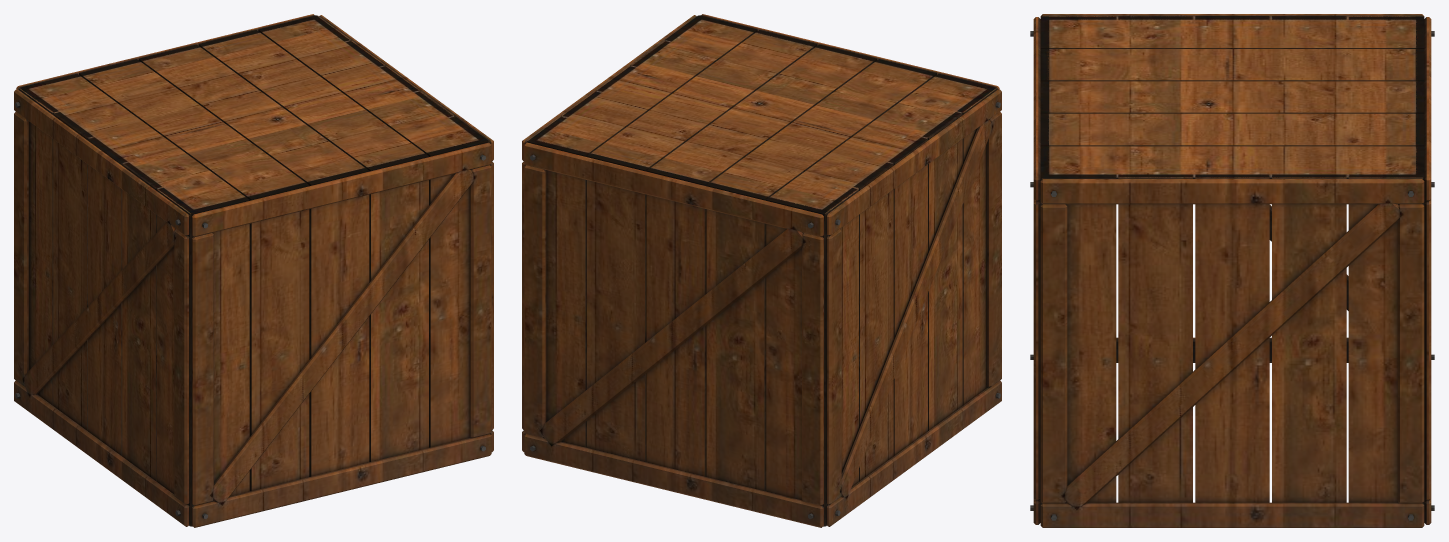
The model's file is crate_pine.glb.
3 renders of one model, left to right at view 1: azimuth 30°, elevation 25°; view 2: azimuth 150°, elevation 25°; view 3: azimuth 270°, elevation 25°, orthographic. The views are drawn at different scales.
Parts seen in each view (by area): view 1: crate_pine; view 2: crate_pine; view 3: crate_pine.
Boxes of the visible parts, left/top/right/bottom form: crate_pine: left=14, top=14, right=493, bottom=527; crate_pine: left=522, top=14, right=1001, bottom=527; crate_pine: left=1030, top=14, right=1434, bottom=527.
Bounding box in the file's own units: 1.05 × 1 × 1.05.
Materials: 1 (1 with a texture image).
